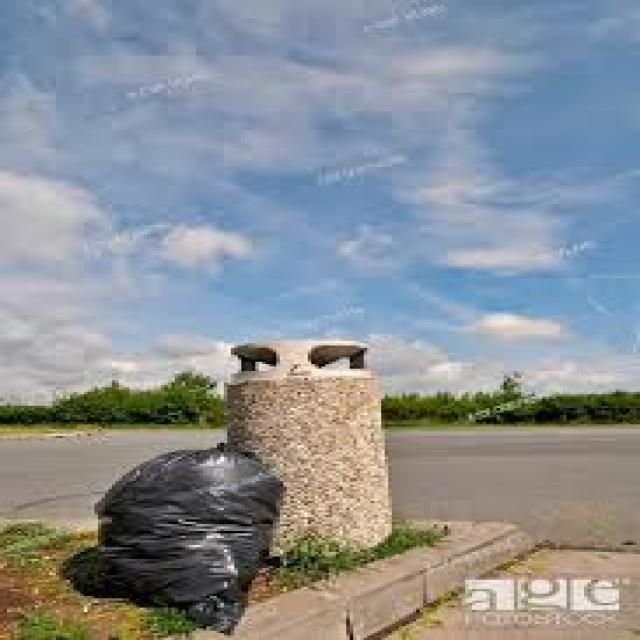plastic_bag: (57, 430, 288, 629)
